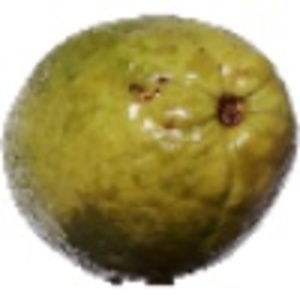goiaba: (4, 12, 292, 277)
